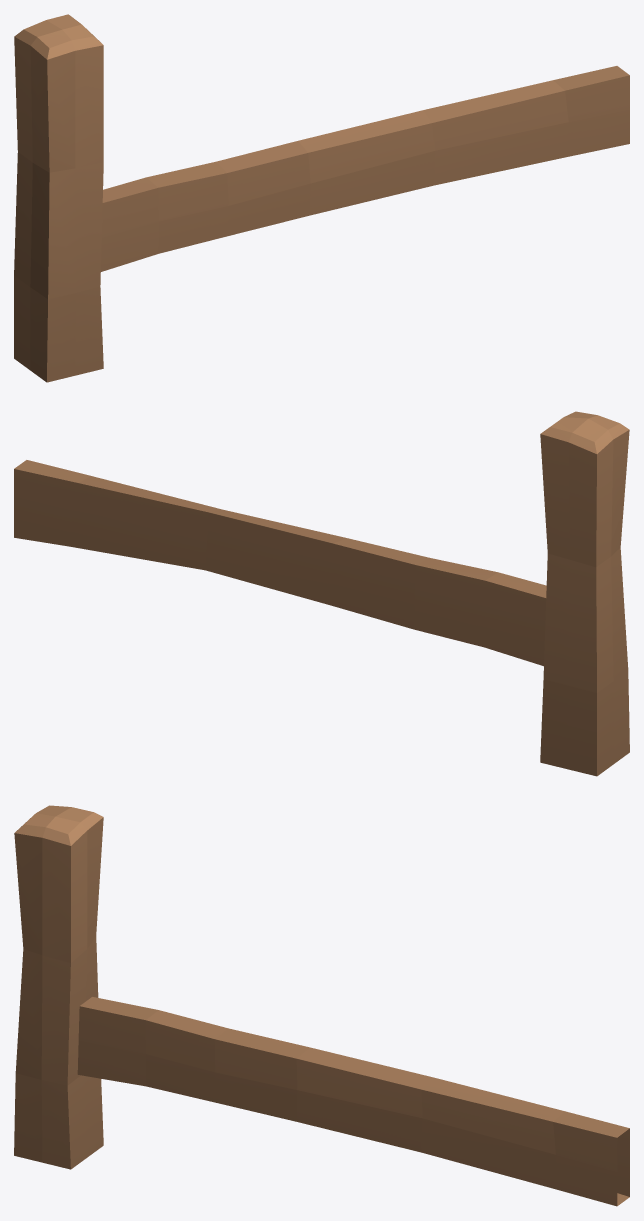
Rendered from untreated fence left 3.fbx.
The picture shows the model from 3 angles, top to bottom: view 1: azimuth 30°, elevation 25°; view 2: azimuth 150°, elevation 25°; view 3: azimuth 330°, elevation 25°; orthographic projection.
Parts seen in each view (by area): view 1: untreated fence left 3; view 2: untreated fence left 3; view 3: untreated fence left 3.
Part boxes in pixels (x1,y1,x2,y2): untreated fence left 3: (14,14,629,382); untreated fence left 3: (14,411,629,776); untreated fence left 3: (14,805,629,1206).
Size of the model in its own units: 272 by 147 by 26.7.
